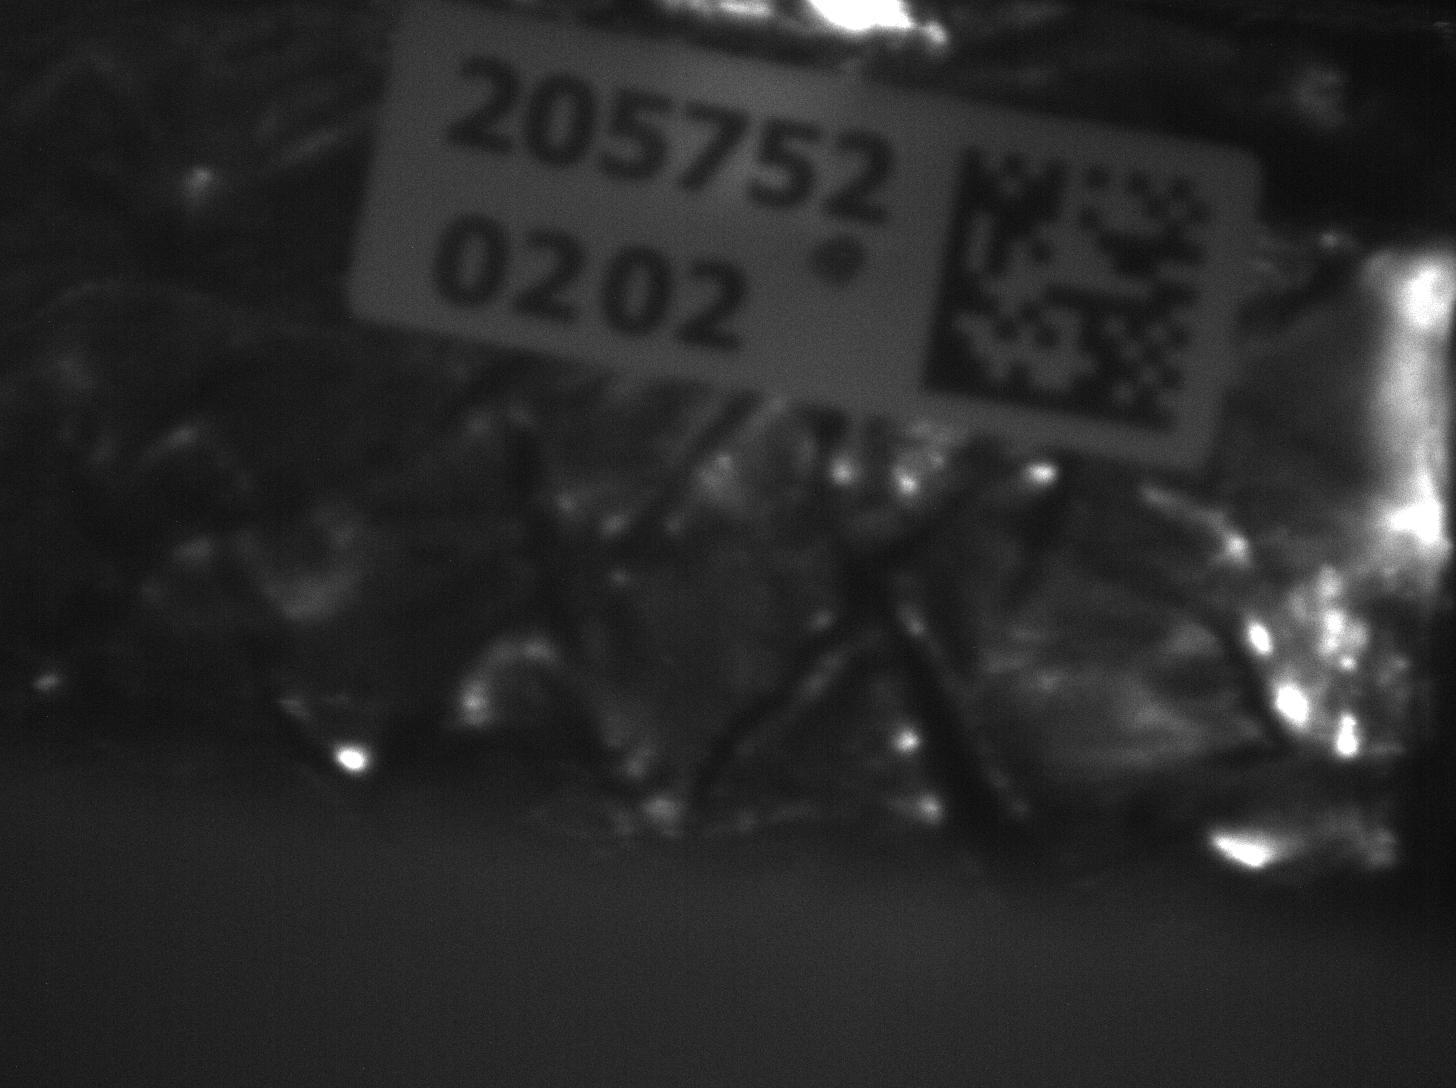data matrix: (907, 105, 1250, 451)
